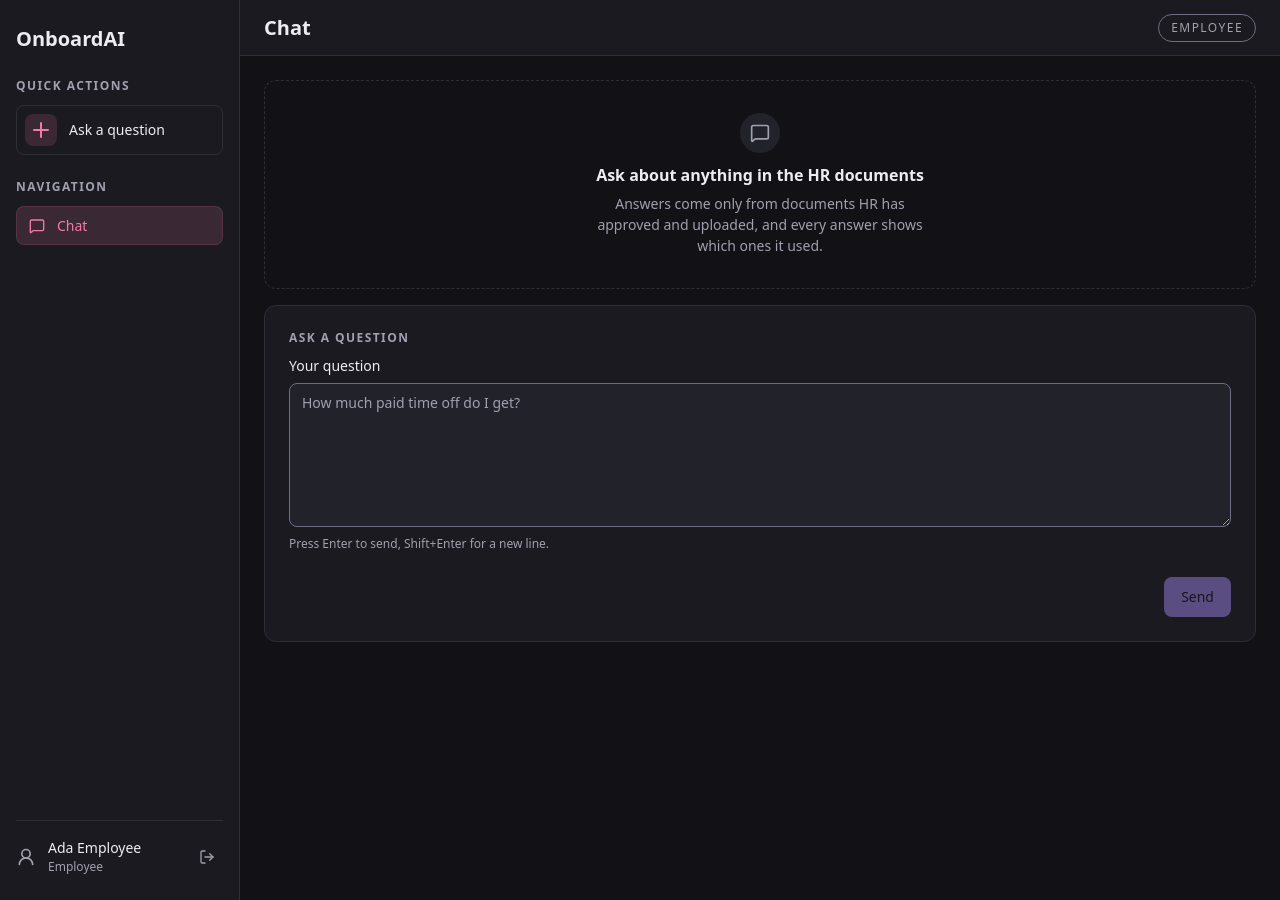
Scenario: offers Send to HR on a fallback
Type "How much paid time off do I accrue?" into the text box labelled "Your question" at (760, 454), box [289, 382, 1231, 526]
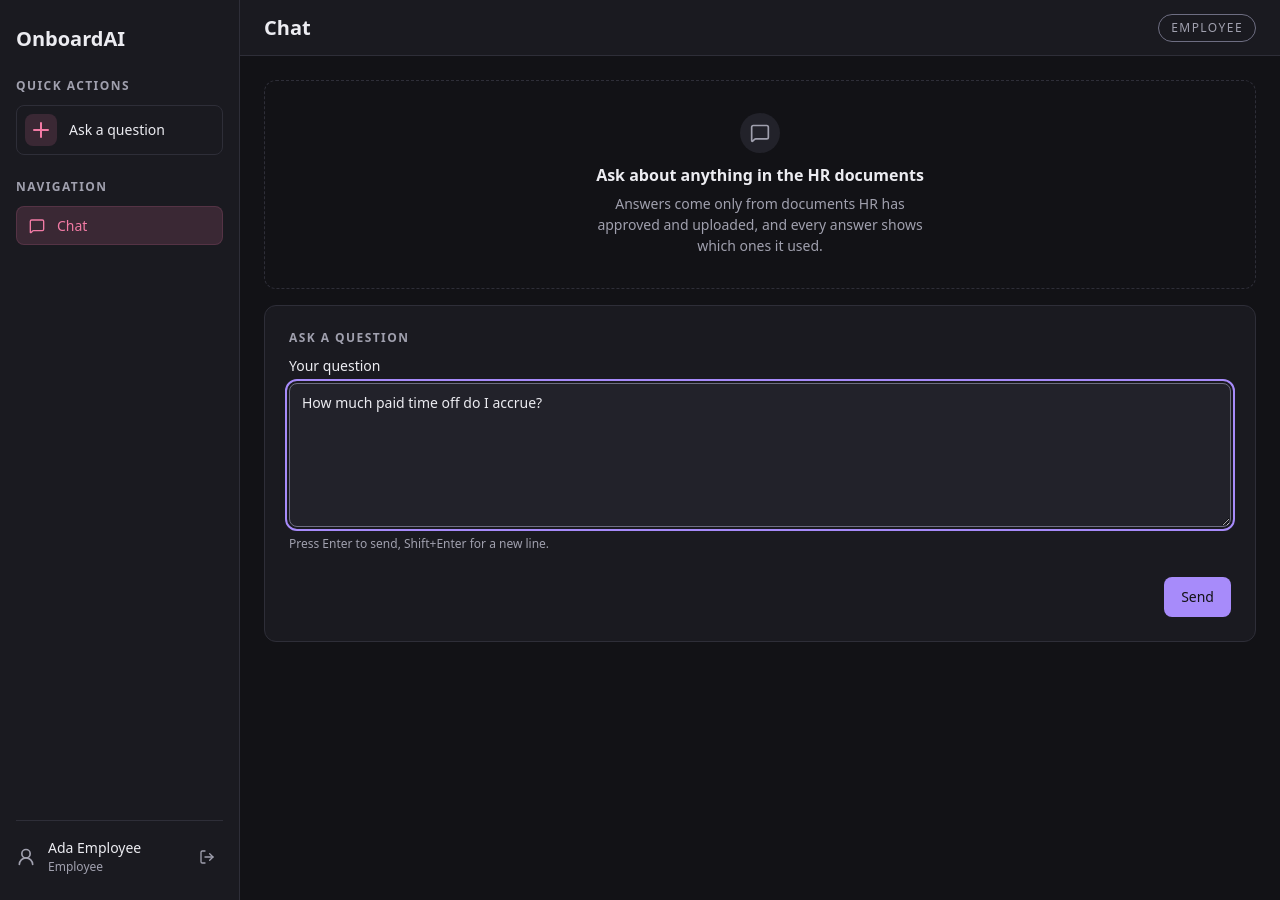
Click the button "Send" at (1198, 596), box [1164, 576, 1231, 616]
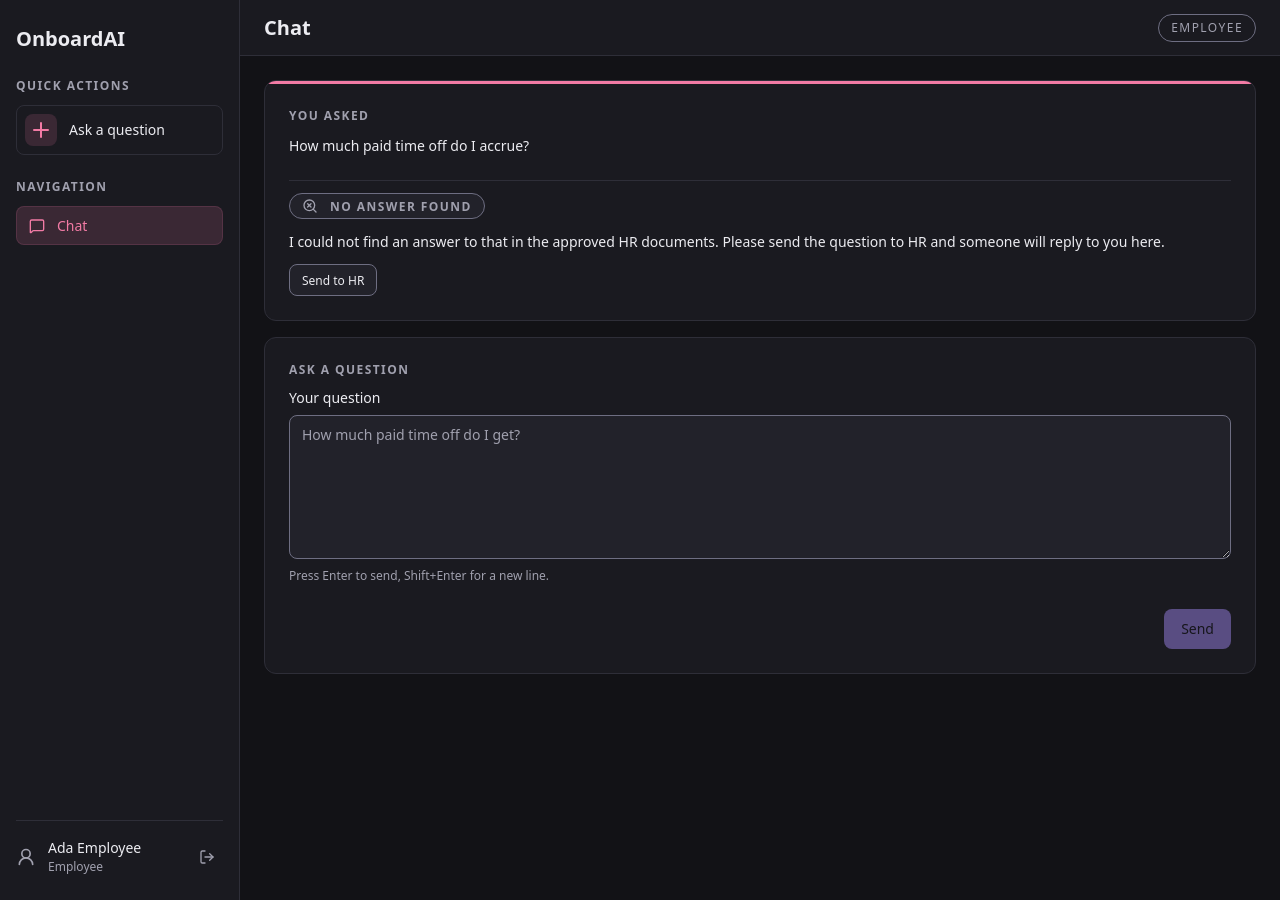
Expected: the button "Send to HR" is shown, [289, 264, 377, 296]
